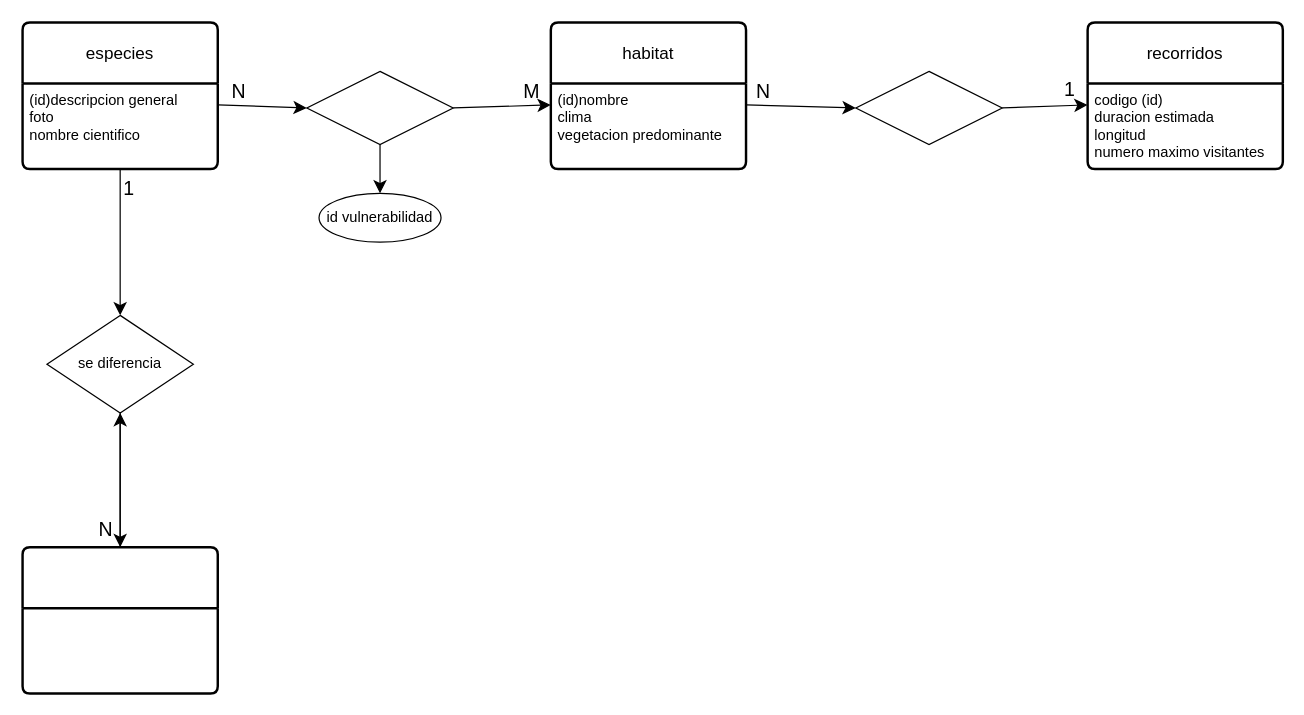
The diagram is 1304 pixels wide and 715 high, and some of its shapes have lost their labels. The centre of each missing label's shape, as x and y in pixels:
nombre comun: (x=119, y=619)
tiene: (x=928, y=107)
vive: (x=379, y=107)
